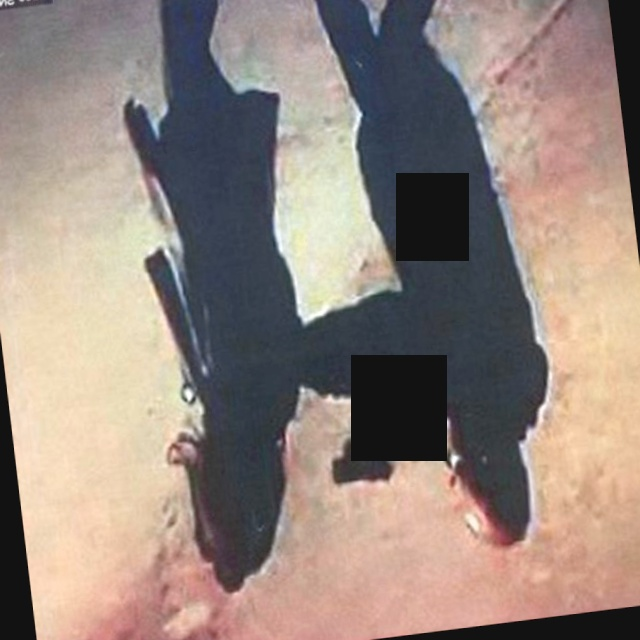gun: (303, 382, 423, 510)
